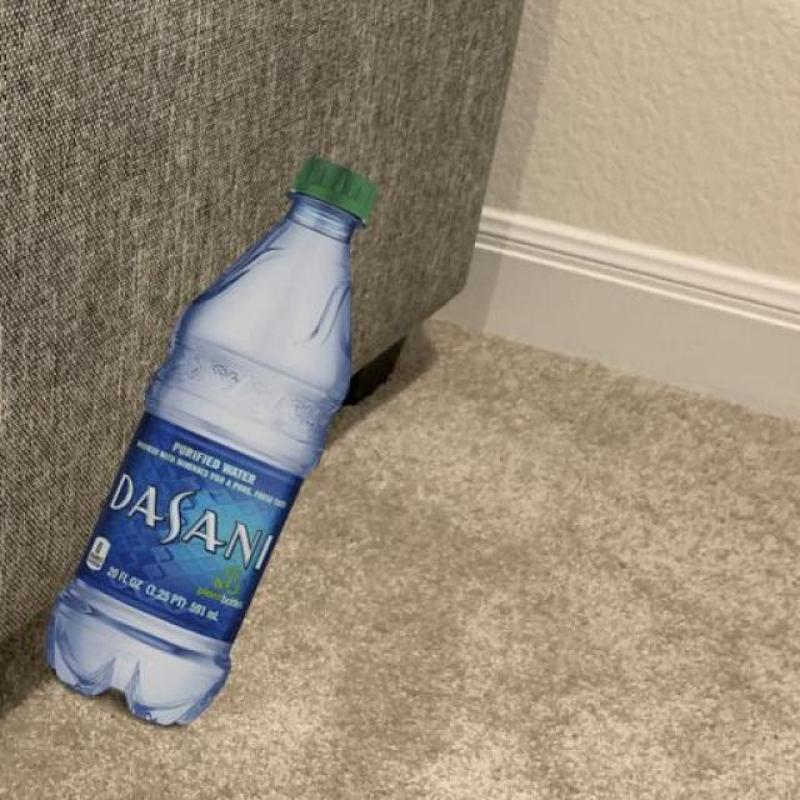botella: (48, 154, 378, 735)
